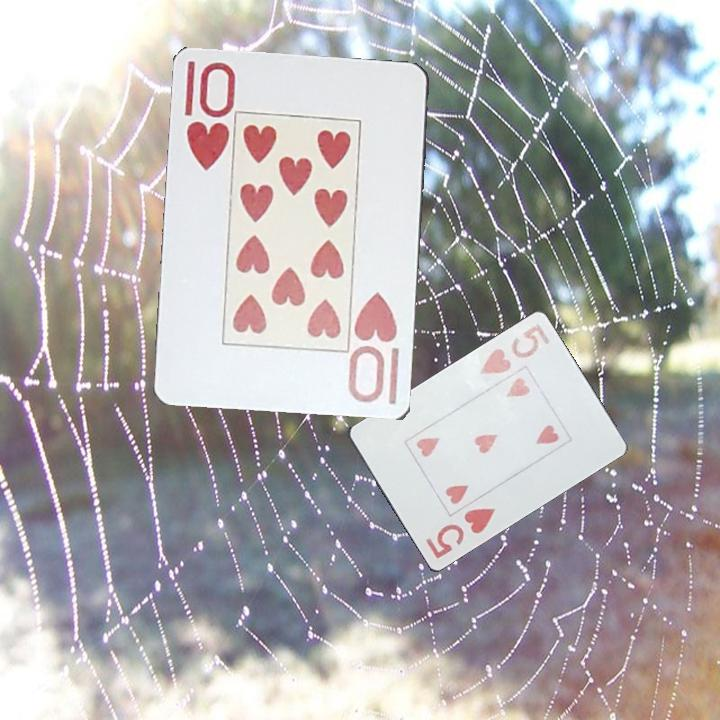5h: (475, 320, 553, 378), (422, 505, 499, 562)
Th: (181, 57, 235, 174), (348, 288, 401, 406)
